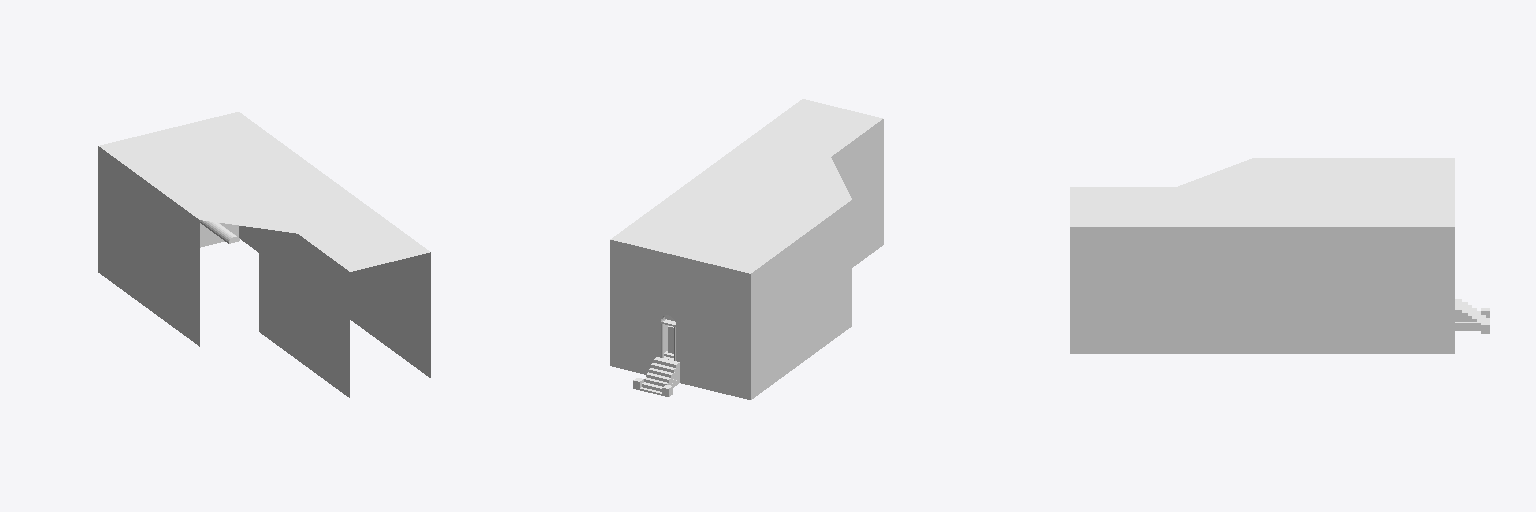
Rendered from marble.obj.
3 views of the same model, side by side, from view 1: azimuth 30°, elevation 25°; view 2: azimuth 150°, elevation 25°; view 3: azimuth 270°, elevation 25° (orthographic).
Parts seen in each view (by area): view 1: Mesh10 Model; view 2: Mesh10 Model; view 3: Mesh10 Model.
Part boxes in pixels (x1,y1,x2,y2): Mesh10 Model: (98,112,430,397); Mesh10 Model: (610,99,883,399); Mesh10 Model: (1070,158,1489,353).
Bounding box in the file's own units: 481 × 414 × 1245.